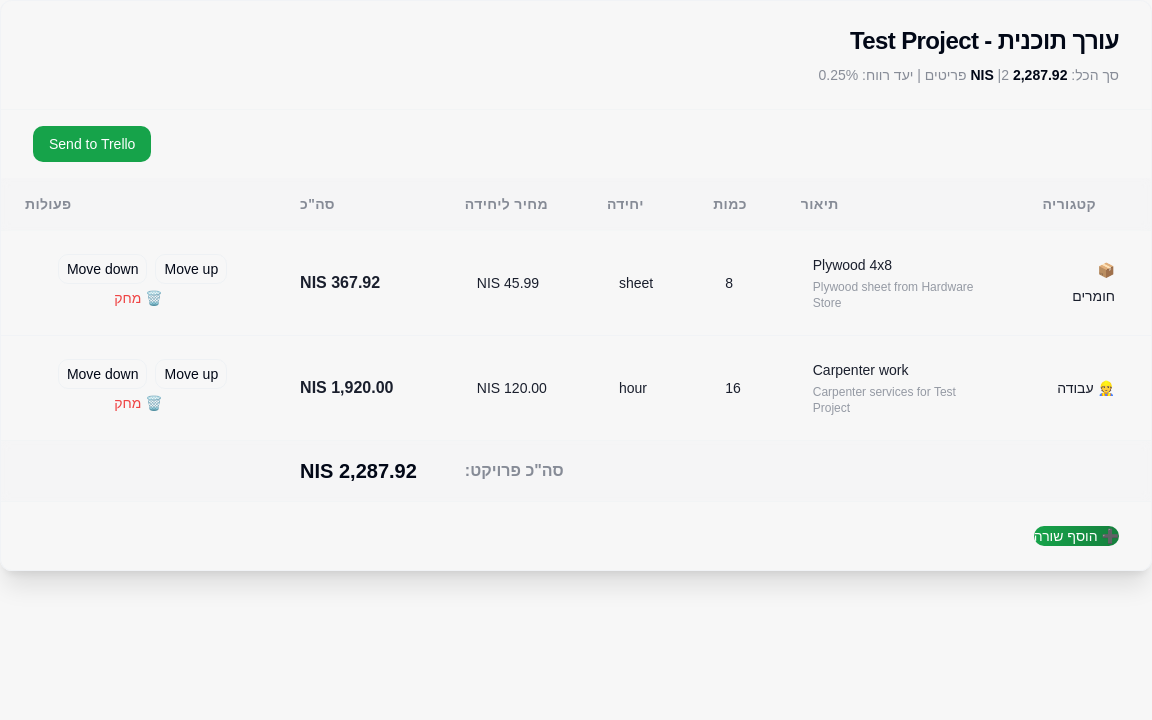
Test: PlanEditor › allows adding new rows
Click the button "➕ הוסף שורה" at (1076, 536), box top-left (1034, 526), bottom-right (1119, 546)
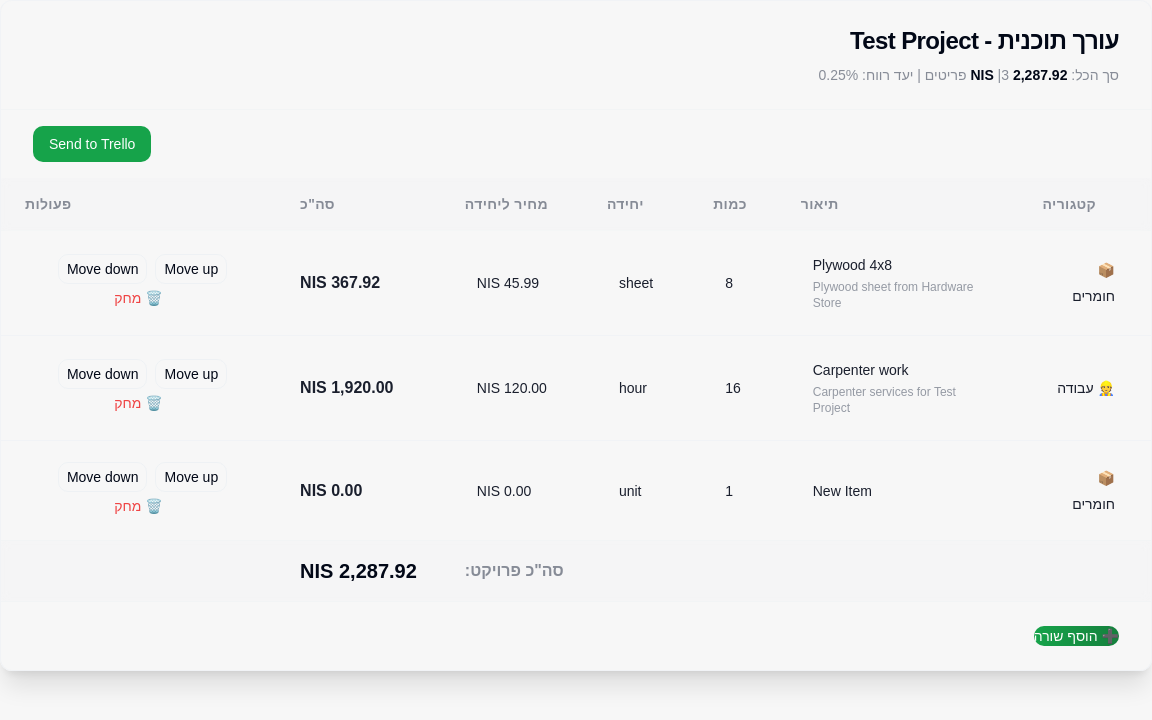
Now the text "New Item" is shown, box top-left (813, 483), bottom-right (872, 499)
